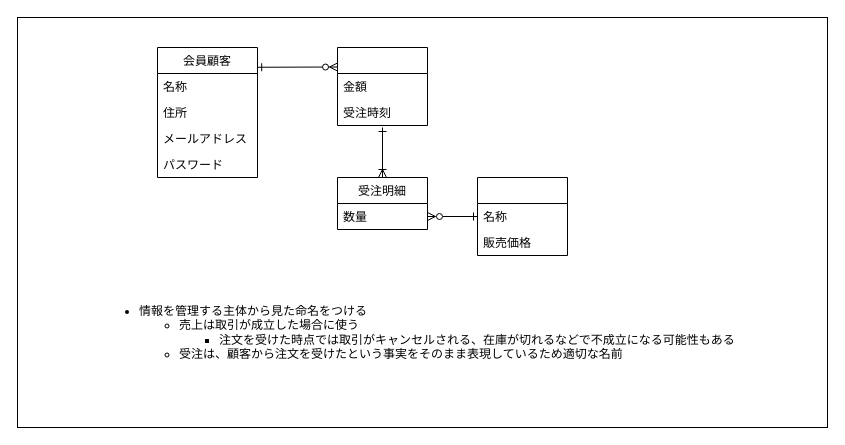
Some shapes in this 845 by 445 pixel diagram are drawn without their labels. Each missing label, with the box of its shape:
受注: (336, 46, 428, 126)
商品: (476, 176, 568, 256)
